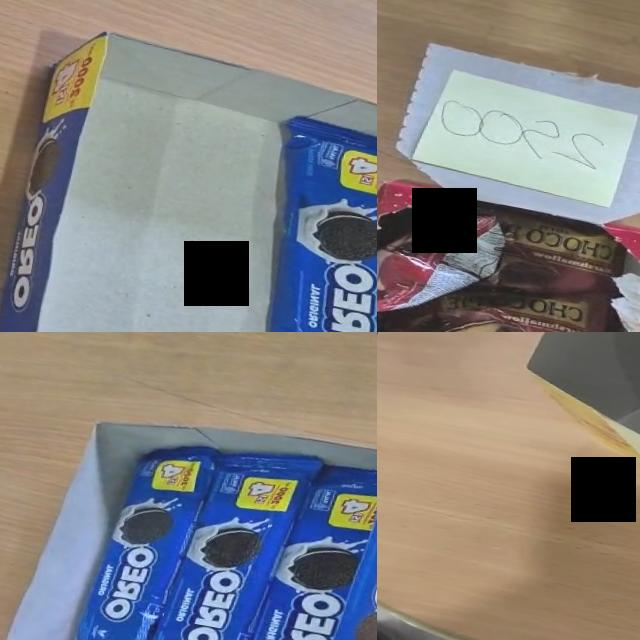Chocopie: (377, 214, 504, 310), (488, 212, 618, 295), (393, 287, 608, 332)
Oreo: (127, 430, 323, 640), (56, 426, 221, 640), (235, 113, 377, 332), (226, 449, 377, 640)
